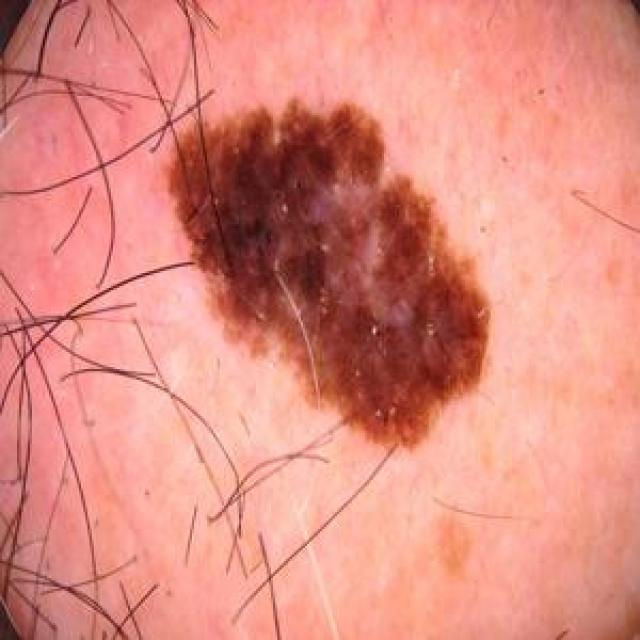Nao cancer: (164, 90, 506, 460)
